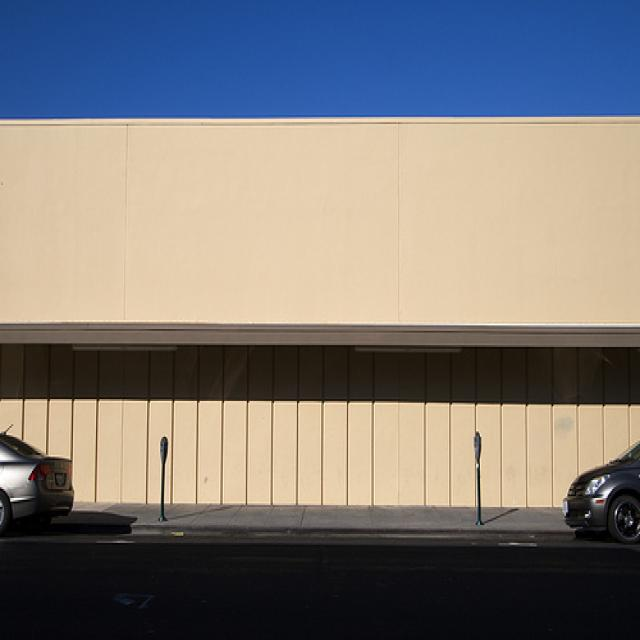Vehicle: (0, 424, 75, 539), (561, 440, 640, 544)
